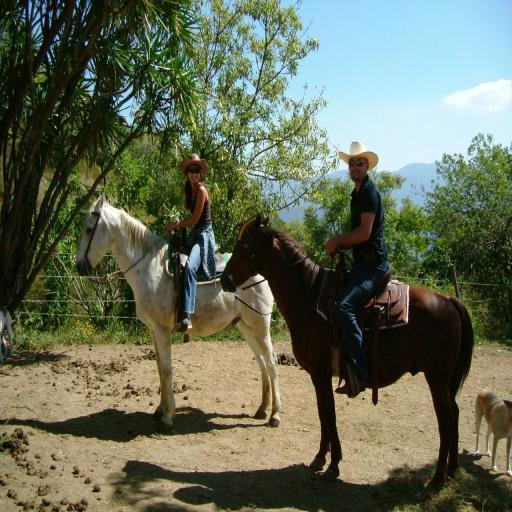horse: (220, 212, 475, 498), (75, 190, 284, 433)
